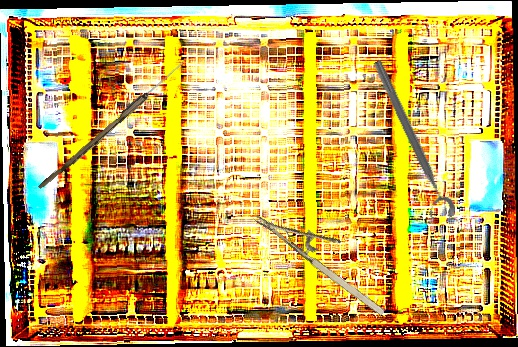Fixation Ring: (359, 57, 459, 226)
Needle Holder: (252, 189, 402, 320)
Surgical Spoon: (37, 57, 187, 194)
